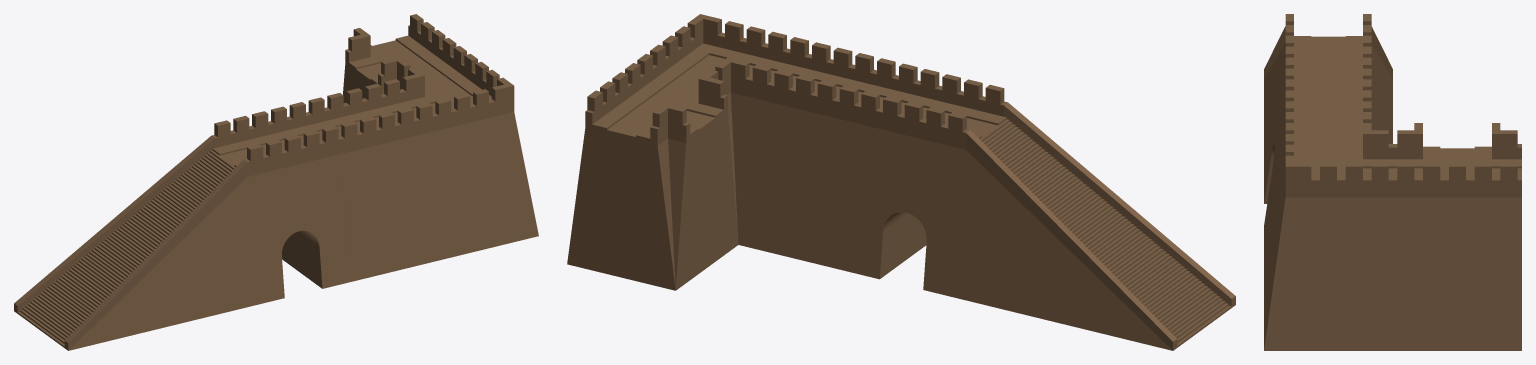
The model's file is Rocks.fbx.
3 views of the same model, side by side, from view 1: azimuth 30°, elevation 25°; view 2: azimuth 150°, elevation 25°; view 3: azimuth 270°, elevation 25° (orthographic). The views are drawn at different scales.
Visible parts, largest first — view 1: RockWoll_Stairs, RockWoll_I, RockWoll_Senter, RockWoll_L, Stairs_Parts, RockWoll_T; view 2: RockWoll_T, RockWoll_Stairs, RockWoll_I, RockWoll_Senter, Stairs_Parts, RockWoll_L; view 3: RockWoll_T, RockWoll_L, RockWoll_Senter, RockWoll_I, RockWoll_Stairs.
Boxes of the visible parts, left/top/right/bottom form: RockWoll_Stairs: left=14, top=135, right=256, bottom=350; RockWoll_I: left=306, top=79, right=444, bottom=281; RockWoll_Senter: left=212, top=102, right=350, bottom=304; RockWoll_L: left=400, top=54, right=538, bottom=258; Stairs_Parts: left=17, top=148, right=237, bottom=347; RockWoll_T: left=343, top=14, right=466, bottom=102; RockWoll_T: left=567, top=54, right=738, bottom=290; RockWoll_Stairs: left=956, top=102, right=1235, bottom=350; RockWoll_I: left=738, top=37, right=898, bottom=271; RockWoll_Senter: left=847, top=63, right=1007, bottom=297; Stairs_Parts: left=977, top=117, right=1231, bottom=347; RockWoll_L: left=650, top=14, right=789, bottom=244; RockWoll_T: left=1393, top=123, right=1521, bottom=350; RockWoll_L: left=1264, top=123, right=1392, bottom=350; RockWoll_Senter: left=1264, top=14, right=1384, bottom=240; RockWoll_I: left=1264, top=68, right=1376, bottom=295; RockWoll_Stairs: left=1264, top=26, right=1392, bottom=186.
Size of the model in its own units: 6000 by 1800 by 2400.
